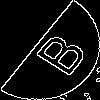B: (25, 25, 90, 79)
